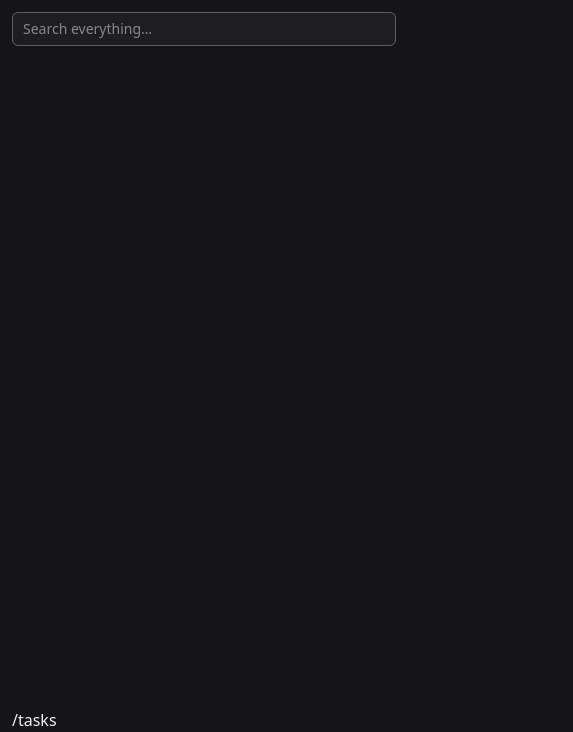
Scenario: GlobalSearch › goes to the hit, then closes and empties itself
In the search field: [204, 29] box left=12, top=12, right=396, bottom=46, type "closed"
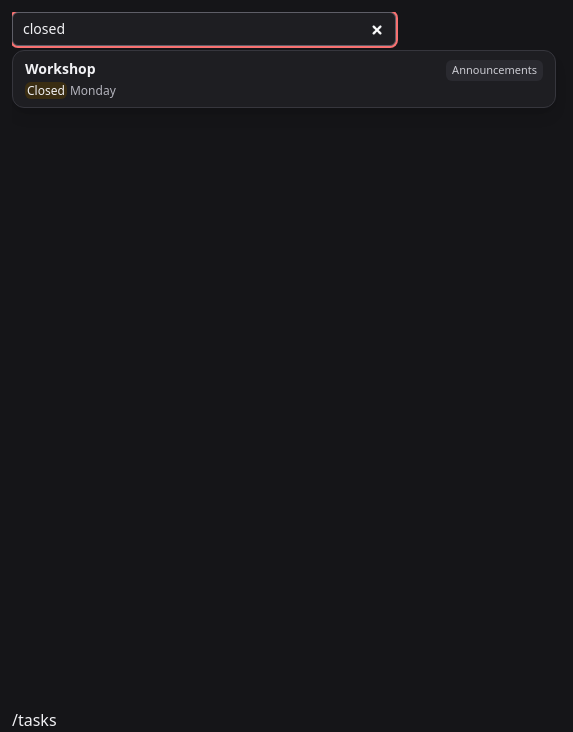
Click the link "Workshop Announcements Closed Monday": [60, 68] box left=13, top=51, right=555, bottom=106
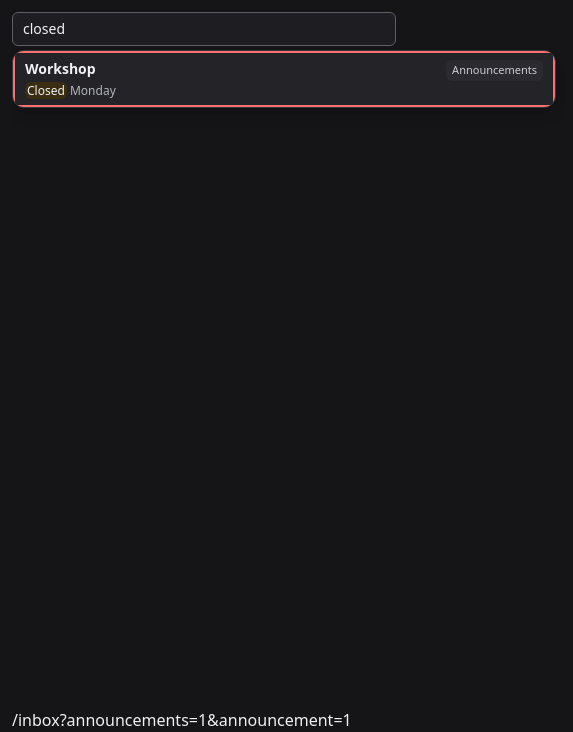
expect the text with test id "where" reads "/inbox?announcements=1&announcement=1": met, box left=12, top=709, right=352, bottom=731
